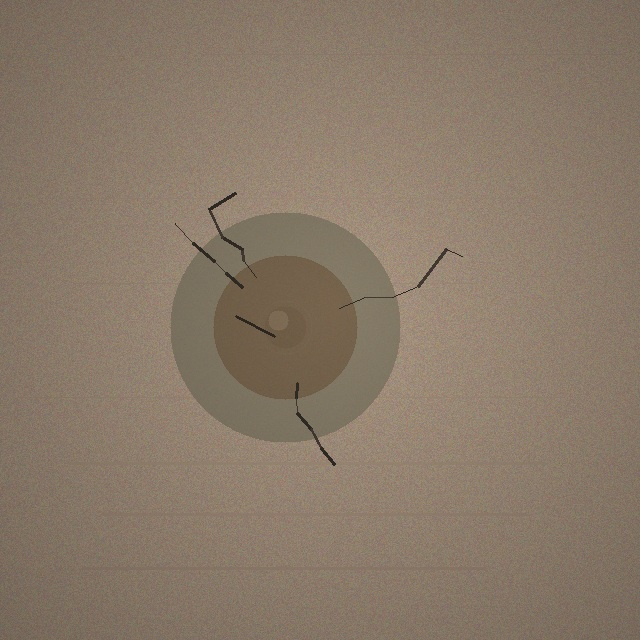crack: (170, 212, 400, 442)
